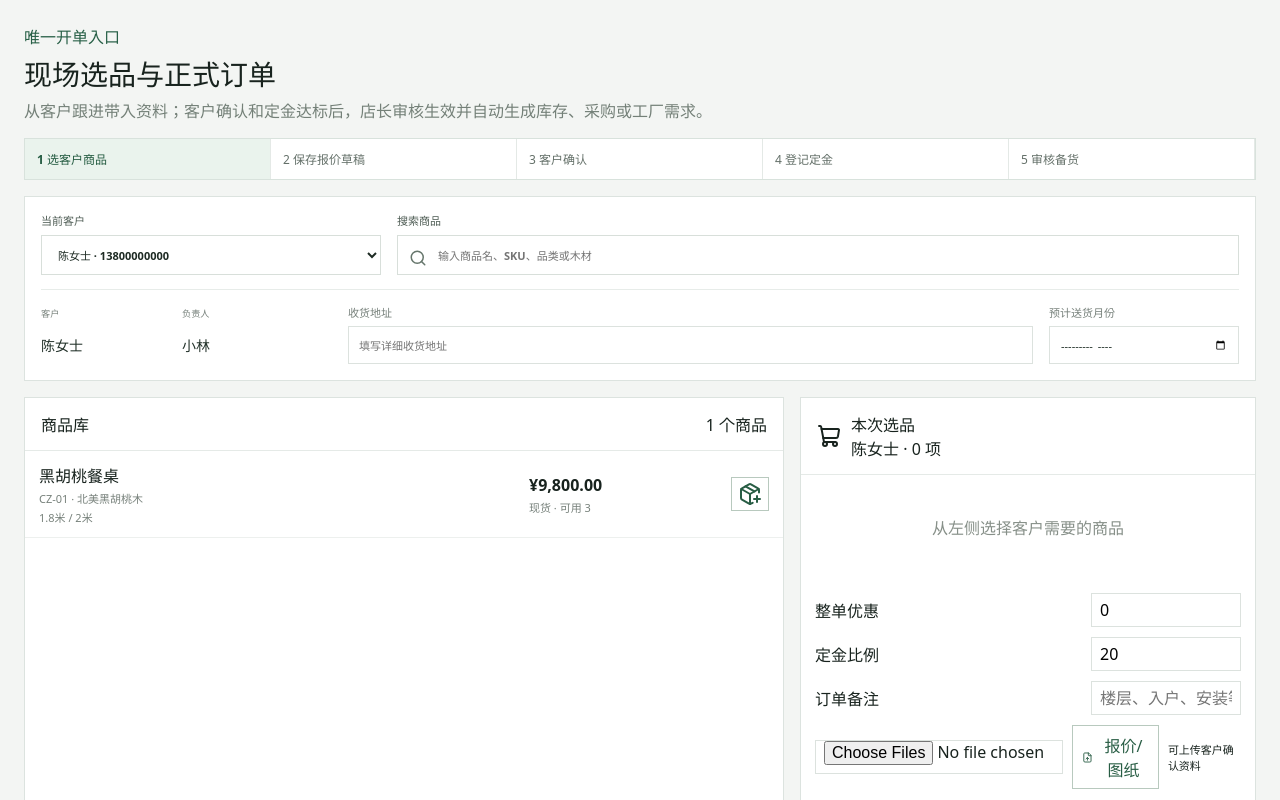
OrderWorkspacePage › creates a draft without activating inventory
Click the button titled "加入选品": (750, 494) [731,477,769,511]
(page scrolled)
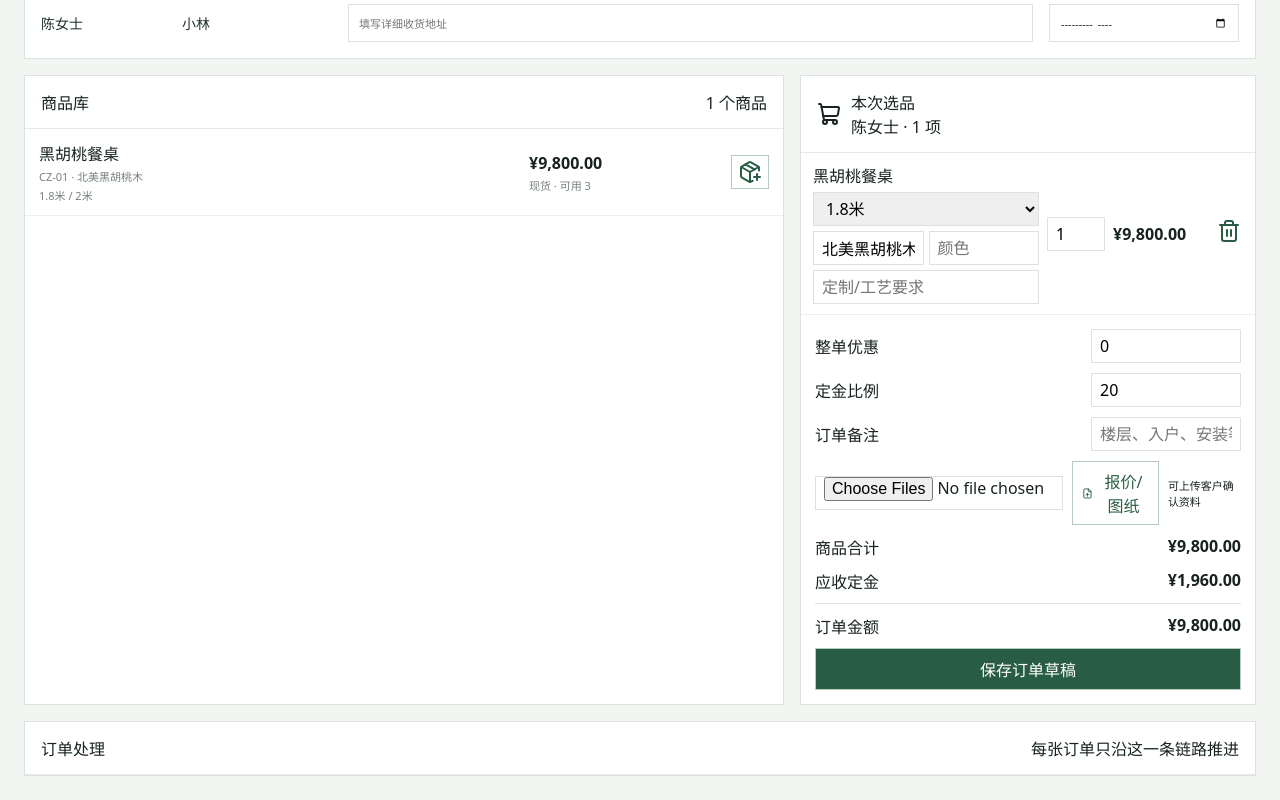
Click the button "保存订单草稿": (1028, 669) [815,648,1241,690]
(page scrolled)
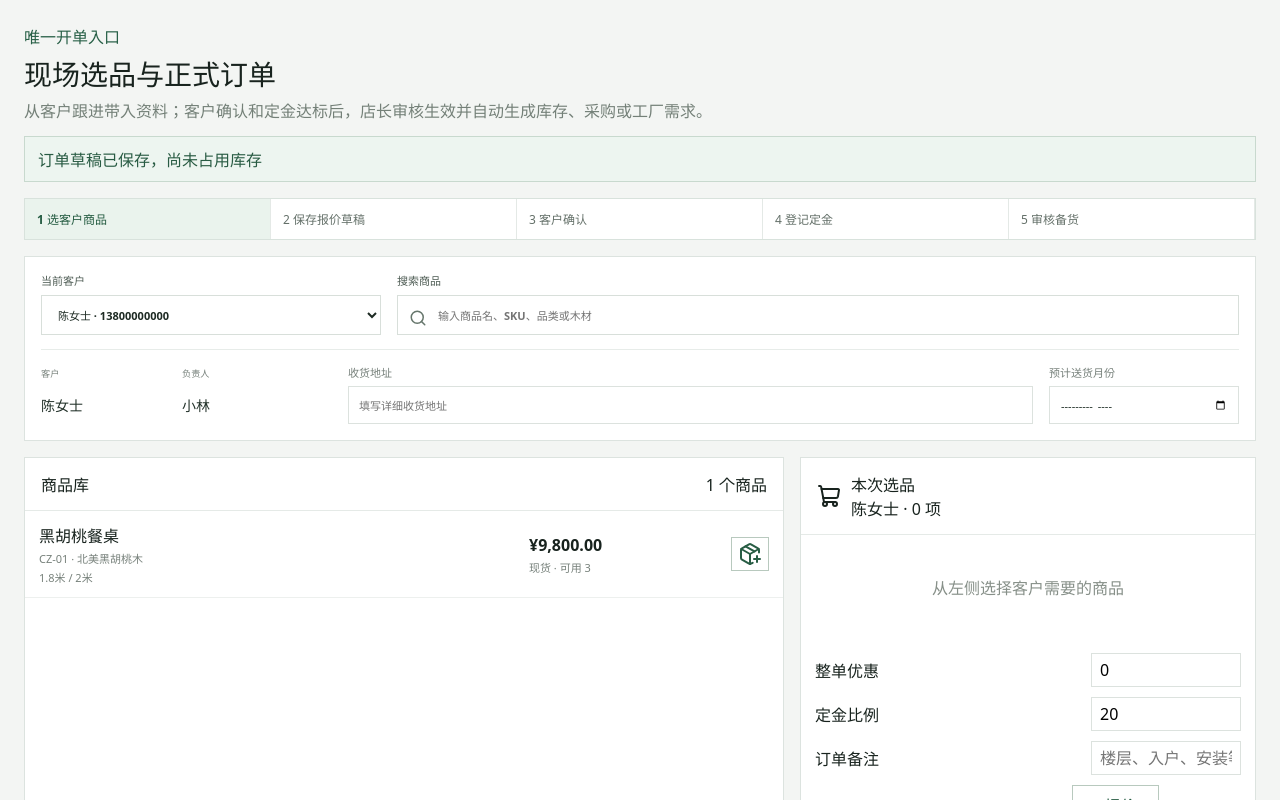
Check: the text "订单草稿已保存，尚未占用库存" is shown, box [24,136,1256,182]
